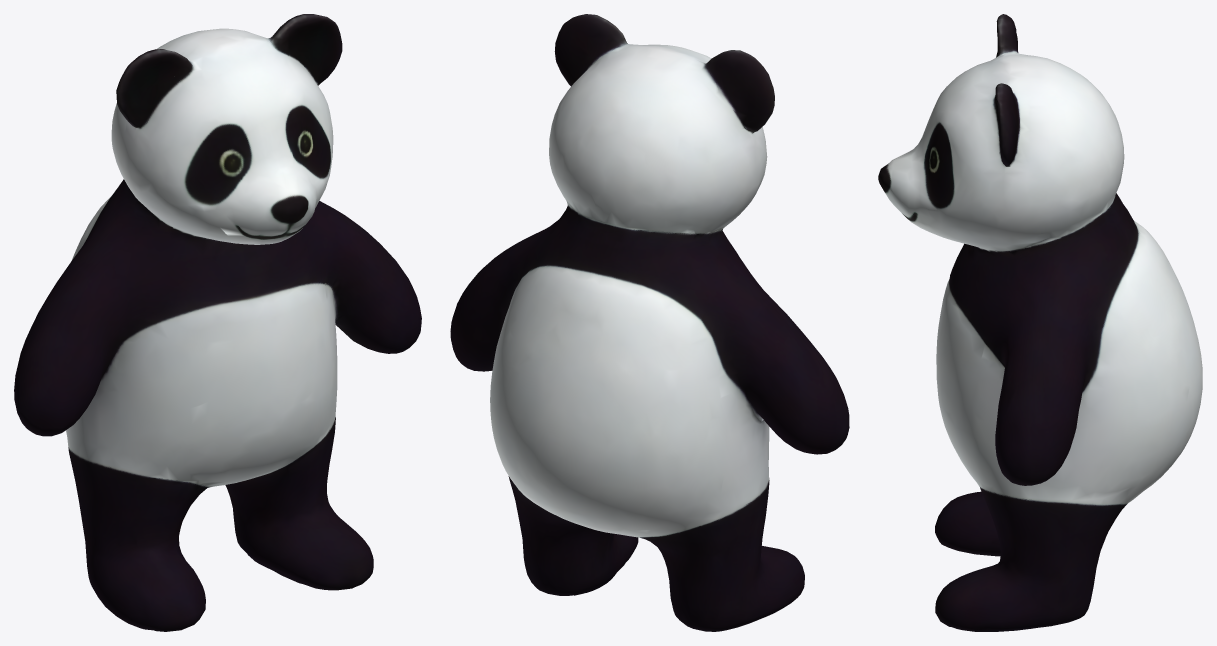
File: panda2.glb
The picture shows the model from 3 angles, left to right: view 1: azimuth 30°, elevation 25°; view 2: azimuth 150°, elevation 25°; view 3: azimuth 270°, elevation 25°; orthographic projection. The views are drawn at different scales.
Parts seen in each view (by area): view 1: panda; view 2: panda; view 3: panda.
Boxes of the visible parts, left/top/right/bottom form: panda: left=14, top=14, right=421, bottom=631; panda: left=450, top=14, right=849, bottom=631; panda: left=878, top=14, right=1202, bottom=631.
Bounding box in the file's own units: 1.03 × 1.39 × 0.7685.
Materials: 1 (1 with a texture image).
